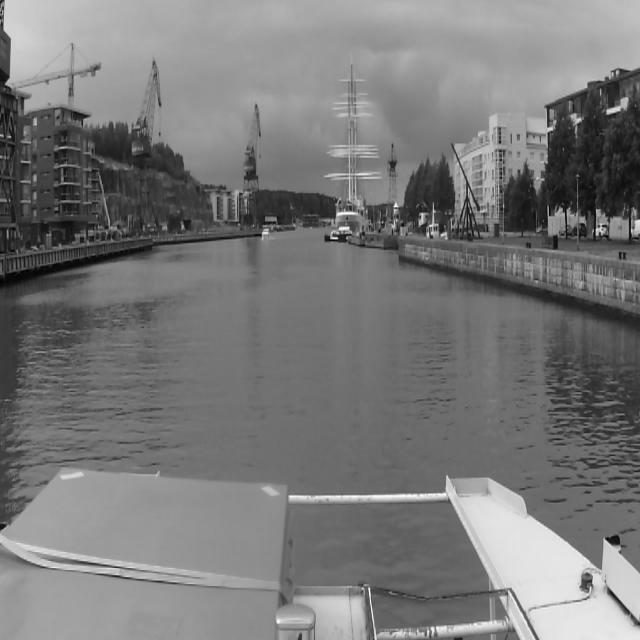ship: (325, 56, 383, 220), (324, 228, 352, 242), (262, 228, 269, 238)
